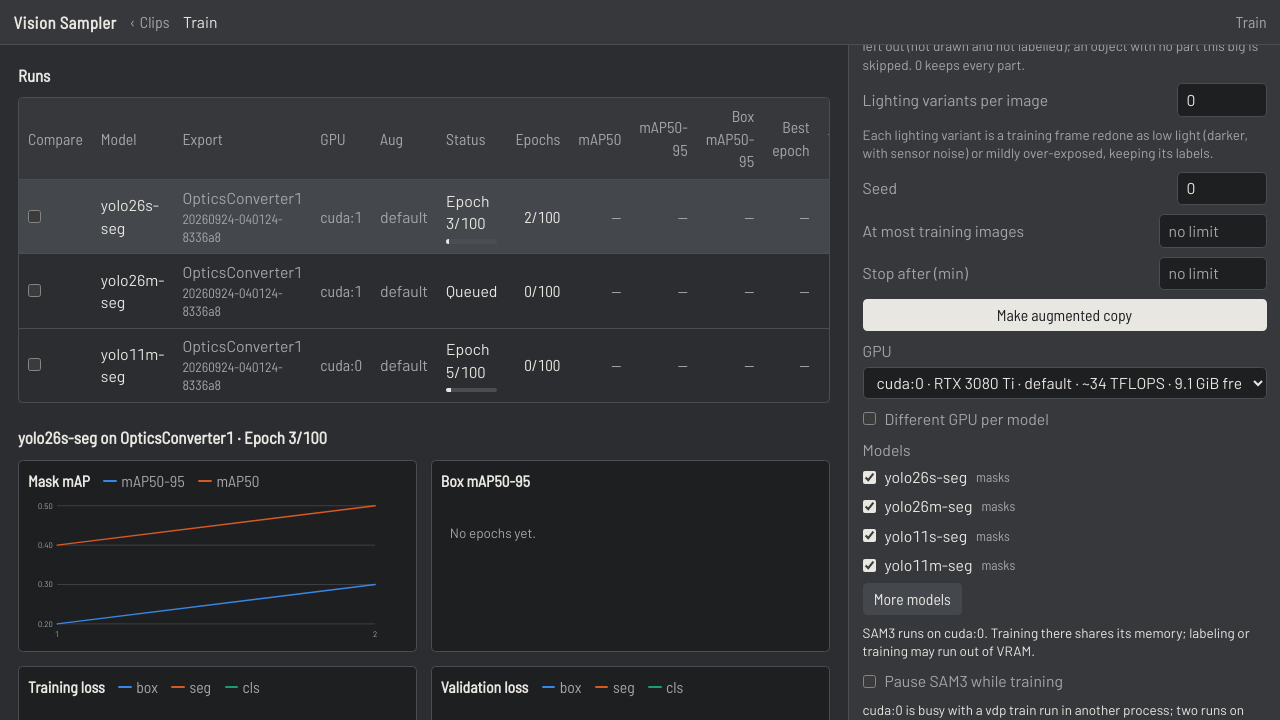
Test: Train page › shows GPU-busy notes for New runs and lists a foreign process's run in GPU queues
The width and height of the screenshot is (1280, 720).
(page scrolled)
Note: Switching to cuda:1 instead shows this server's own queue-behind note (it is training r1).
Step 1. Select "cuda:1 · RTX 2080 Ti · ~14 TFLOPS · 5.5 GiB free" in the dropdown labelled "GPU" → [1064, 383], box [862,367,1266,399]
(page scrolled)
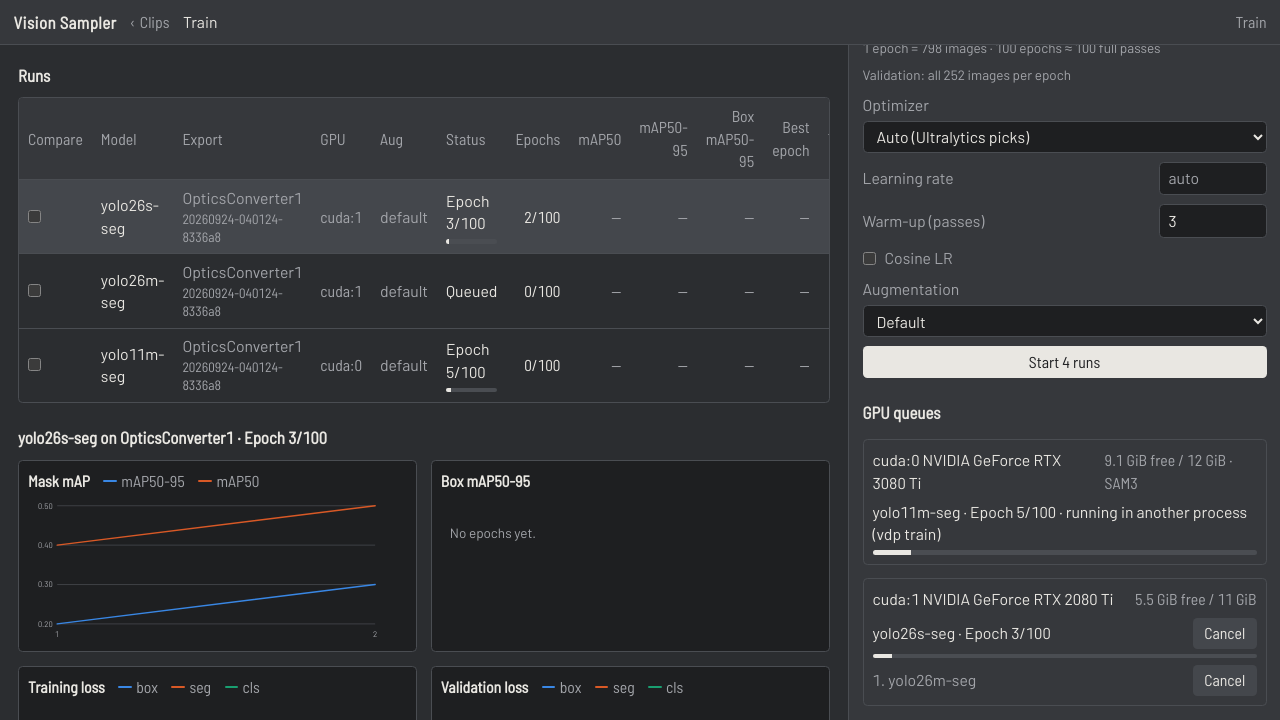
Now the text "yolo11m-seg · Epoch 5/100 · running in another process (vdp train)" is shown, box [872,501,1256,546]
